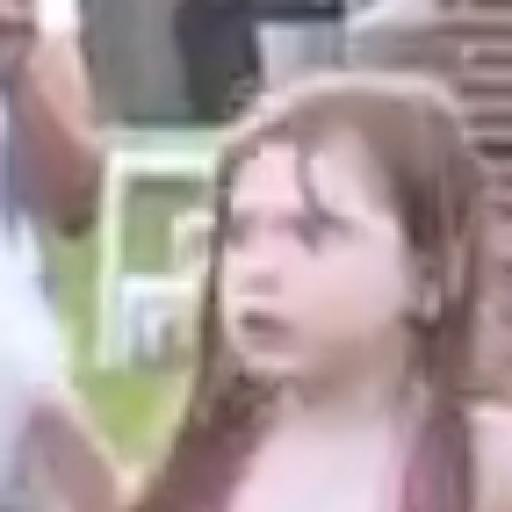Autism: (106, 69, 473, 450)
